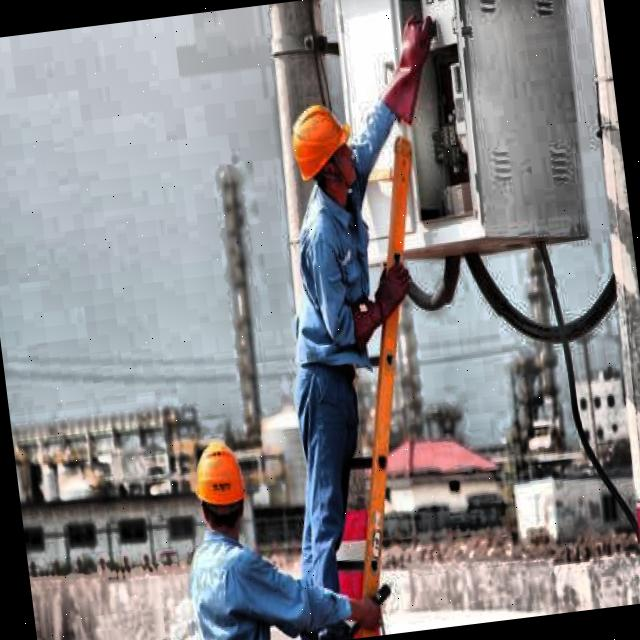helmet: (281, 90, 365, 212), (184, 432, 258, 543)
